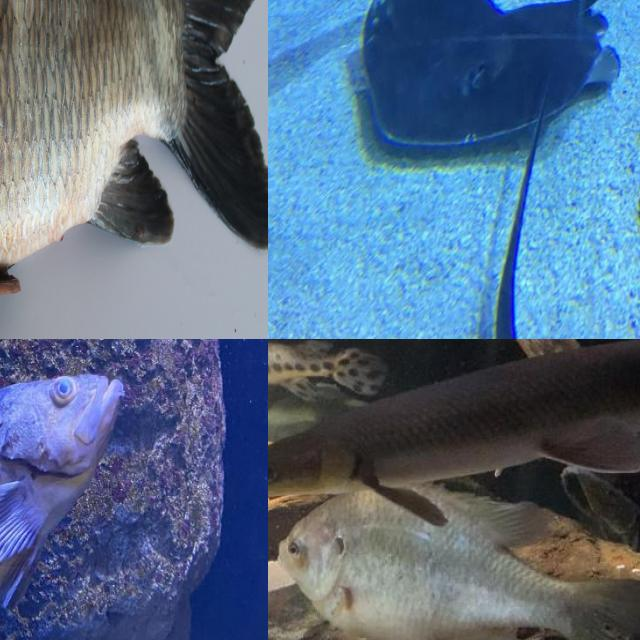fish: (0, 0, 268, 339), (0, 364, 130, 640)
